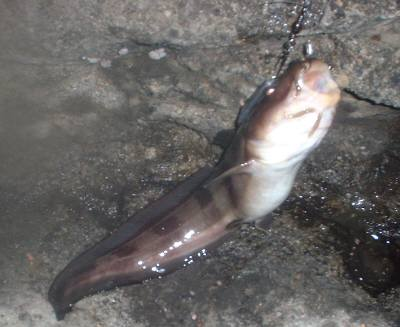gonzui: (49, 49, 364, 311)
